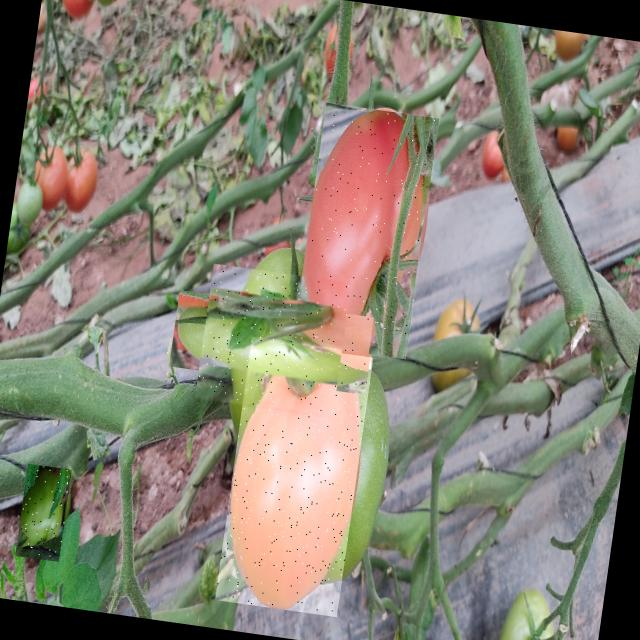Ripe Tomato: (215, 340, 373, 618), (292, 102, 440, 360)
Unripe Tomato: (195, 264, 352, 420), (15, 464, 72, 562)
